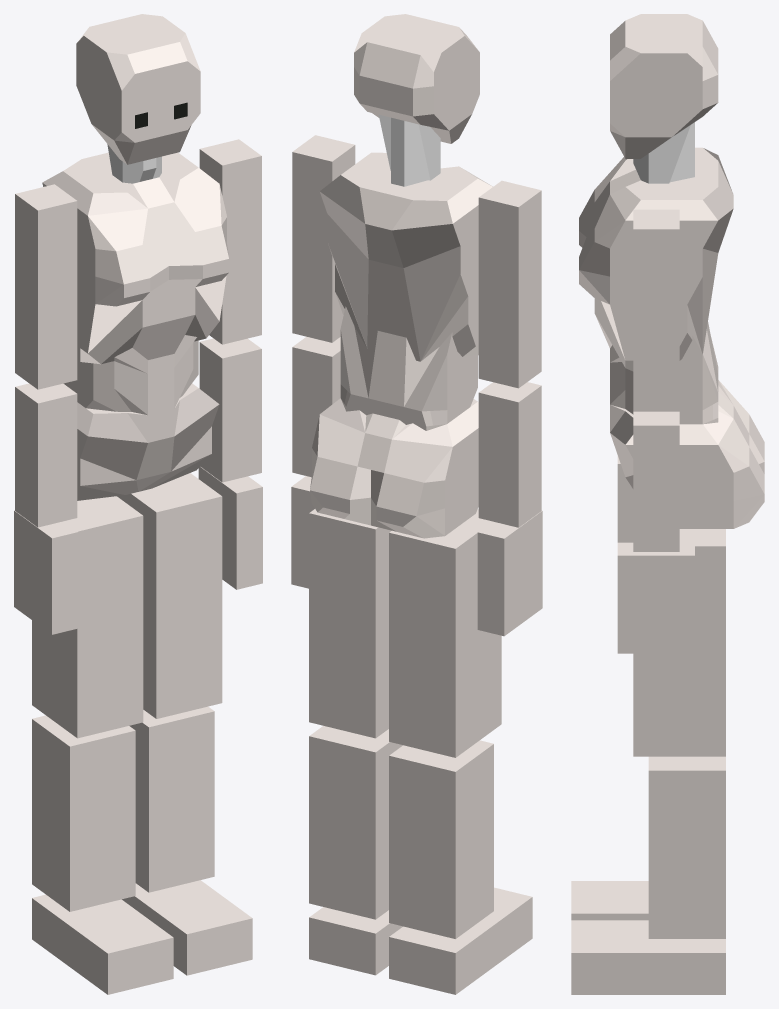
The model's file is player.gltf.
3 views of the same model, side by side, from view 1: azimuth 30°, elevation 25°; view 2: azimuth 150°, elevation 25°; view 3: azimuth 270°, elevation 25° (orthographic).
Visible parts, largest first — view 1: thigh left (×2), calf left (×2), upper, arm left (×2), foot left (×2), forearm left (×2), head, hand left (×2), lower, mid, neck; view 2: thigh left (×2), calf left (×2), upper, arm left (×2), lower, forearm left (×2), foot left (×2), head, mid, hand left (×2), neck; view 3: upper, calf left, thigh left, foot left (×2), head, lower, arm left, hand left (×2), forearm left, mid, neck.
Part boxes in pixels (bbox=[...]): thigh left (×2): bbox=[32, 473, 222, 738]; calf left (×2): bbox=[32, 706, 214, 911]; upper: bbox=[42, 152, 229, 364]; arm left (×2): bbox=[15, 139, 261, 389]; foot left (×2): bbox=[32, 880, 252, 994]; forearm left (×2): bbox=[15, 338, 261, 527]; head: bbox=[76, 14, 200, 164]; hand left (×2): bbox=[14, 466, 262, 634]; lower: bbox=[77, 383, 219, 500]; mid: bbox=[63, 335, 198, 415]; neck: bbox=[107, 144, 161, 183]; thigh left (×2): bbox=[309, 509, 501, 757]; calf left (×2): bbox=[309, 726, 493, 938]; upper: bbox=[319, 152, 492, 361]; arm left (×2): bbox=[292, 135, 541, 388]; lower: bbox=[310, 398, 478, 538]; forearm left (×2): bbox=[292, 336, 541, 527]; foot left (×2): bbox=[309, 887, 532, 994]; head: bbox=[354, 14, 479, 143]; mid: bbox=[340, 306, 477, 439]; hand left (×2): bbox=[291, 476, 542, 636]; neck: bbox=[378, 114, 440, 186]; upper: bbox=[579, 147, 733, 371]; calf left: bbox=[648, 756, 725, 938]; thigh left: bbox=[633, 529, 725, 756]; foot left (×2): bbox=[571, 881, 725, 994]; head: bbox=[610, 14, 718, 158]; lower: bbox=[610, 380, 764, 528]; arm left: bbox=[633, 209, 679, 411]; hand left (×2): bbox=[617, 455, 694, 653]; forearm left: bbox=[633, 411, 679, 551]; mid: bbox=[610, 322, 733, 424]; neck: bbox=[633, 122, 694, 183].
Bounding box in the file's own units: 1.06 × 4.12 × 0.7812.
Materials: 1 (1 with a texture image).
